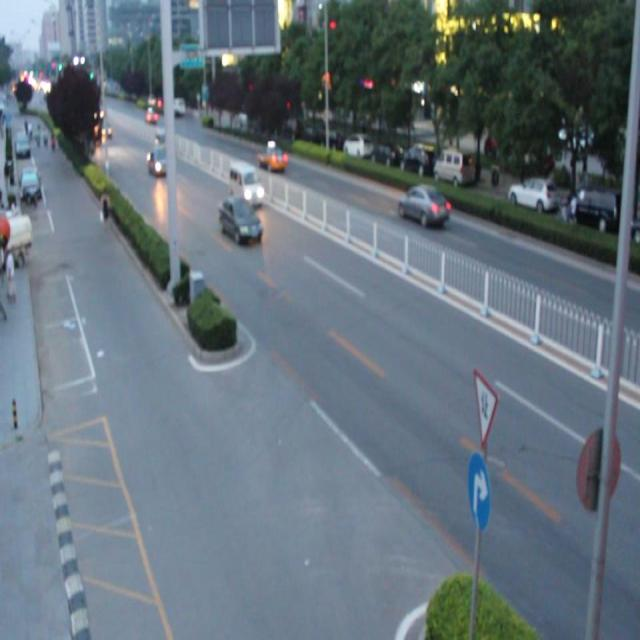car: (218, 195, 260, 248), (397, 185, 447, 225), (257, 140, 286, 172), (148, 149, 170, 178)
truck: (230, 164, 263, 205), (153, 130, 171, 154)
